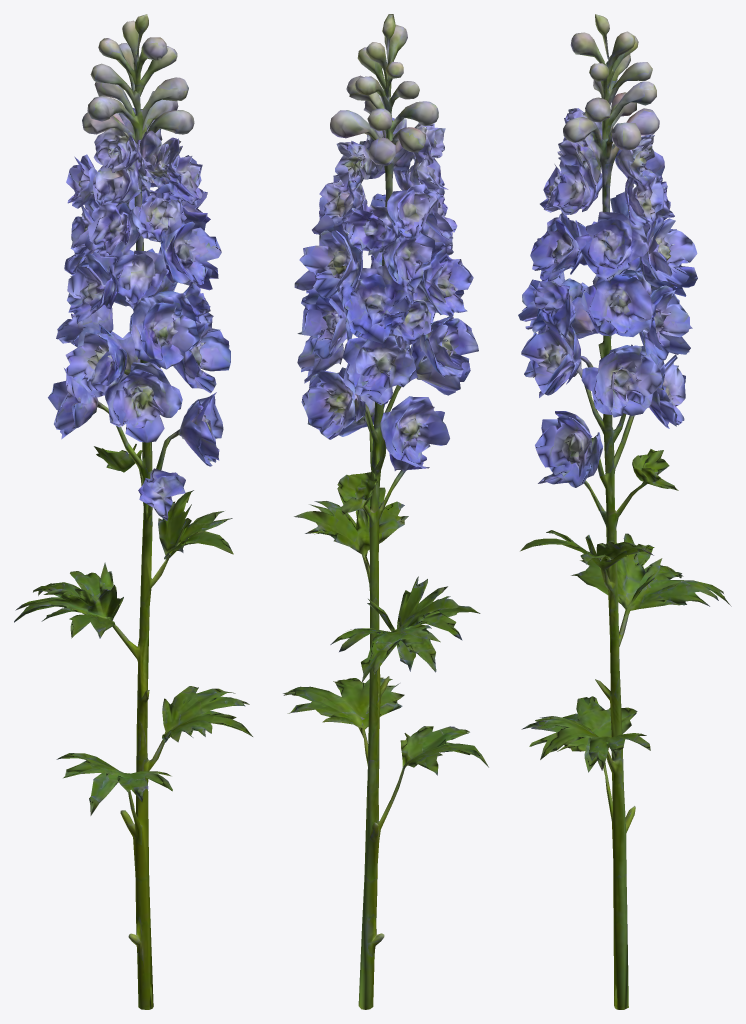
The model's file is del_bule.glb.
3 renders of one model, left to right at view 1: azimuth 30°, elevation 25°; view 2: azimuth 150°, elevation 25°; view 3: azimuth 270°, elevation 25°, orthographic.
Size of the model in its own units: 0.413 by 1.9 by 0.3727.
Materials: 1 (1 with a texture image).
